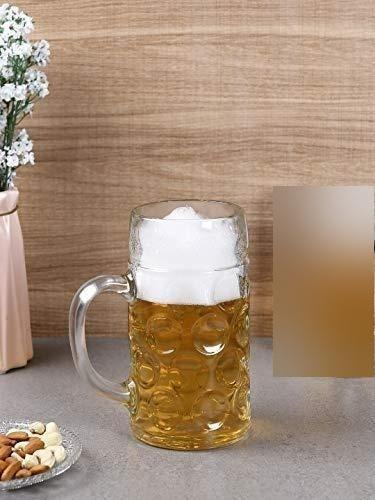glass-mug: (65, 195, 254, 454)
